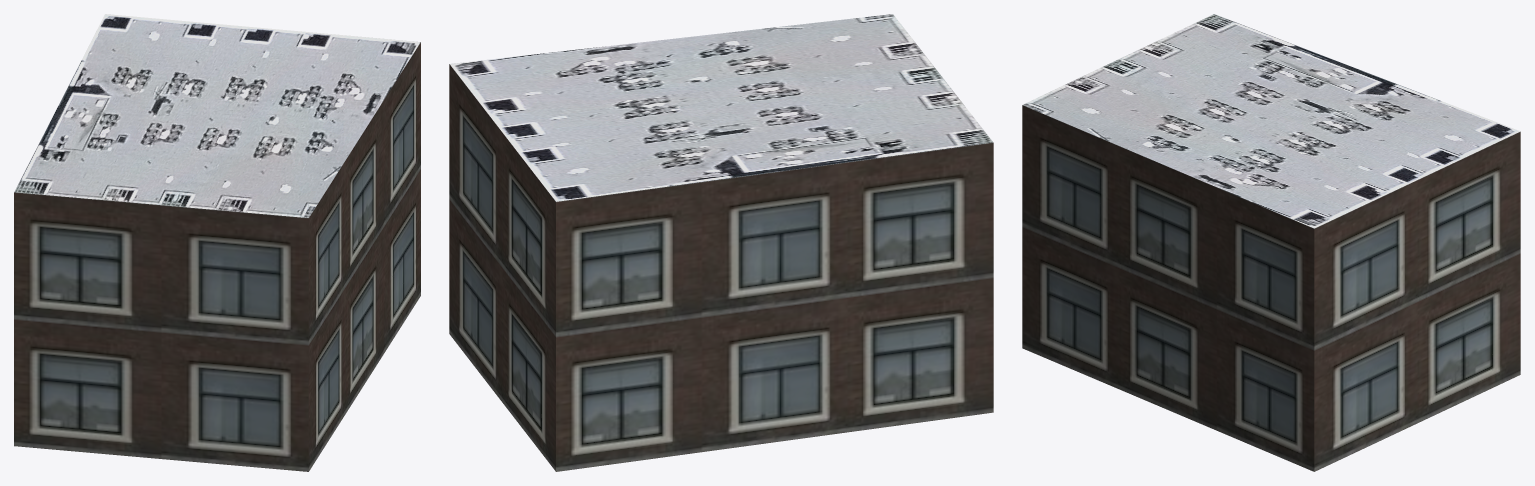
The model's file is ResTex__1767.fbx.
3 views of the same model, side by side, from view 1: azimuth 30°, elevation 25°; view 2: azimuth 150°, elevation 25°; view 3: azimuth 270°, elevation 25° (orthographic). The views are drawn at different scales.
Parts seen in each view (by area): view 1: CityEngineMaterial_16_m, CityEngineMaterial_15_m; view 2: CityEngineMaterial_16_m, CityEngineMaterial_15_m; view 3: CityEngineMaterial_16_m, CityEngineMaterial_15_m.
Part boxes in pixels (left/top/right/bottom): CityEngineMaterial_16_m: left=14, top=42, right=420, bottom=471; CityEngineMaterial_15_m: left=14, top=14, right=420, bottom=217; CityEngineMaterial_16_m: left=449, top=64, right=993, bottom=471; CityEngineMaterial_15_m: left=450, top=14, right=993, bottom=201; CityEngineMaterial_16_m: left=1022, top=105, right=1520, bottom=471; CityEngineMaterial_15_m: left=1023, top=14, right=1520, bottom=228.
Bounding box in the file's own units: 11.36 × 6 × 11.14.
Materials: 2 (2 with a texture image).
